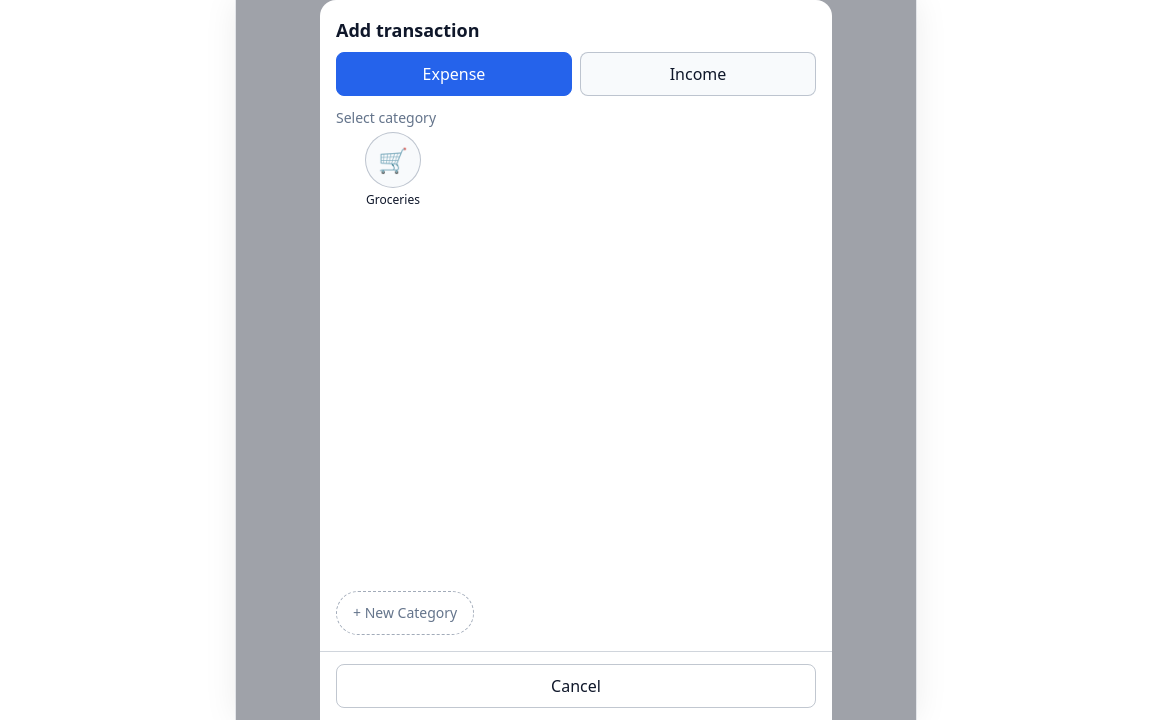
Test: TransactionSheet › shows validation errors and does not write when empty
The image size is (1152, 720).
Click the button "🛒 Groceries": point(393, 170) left=336, top=132, right=450, bottom=208
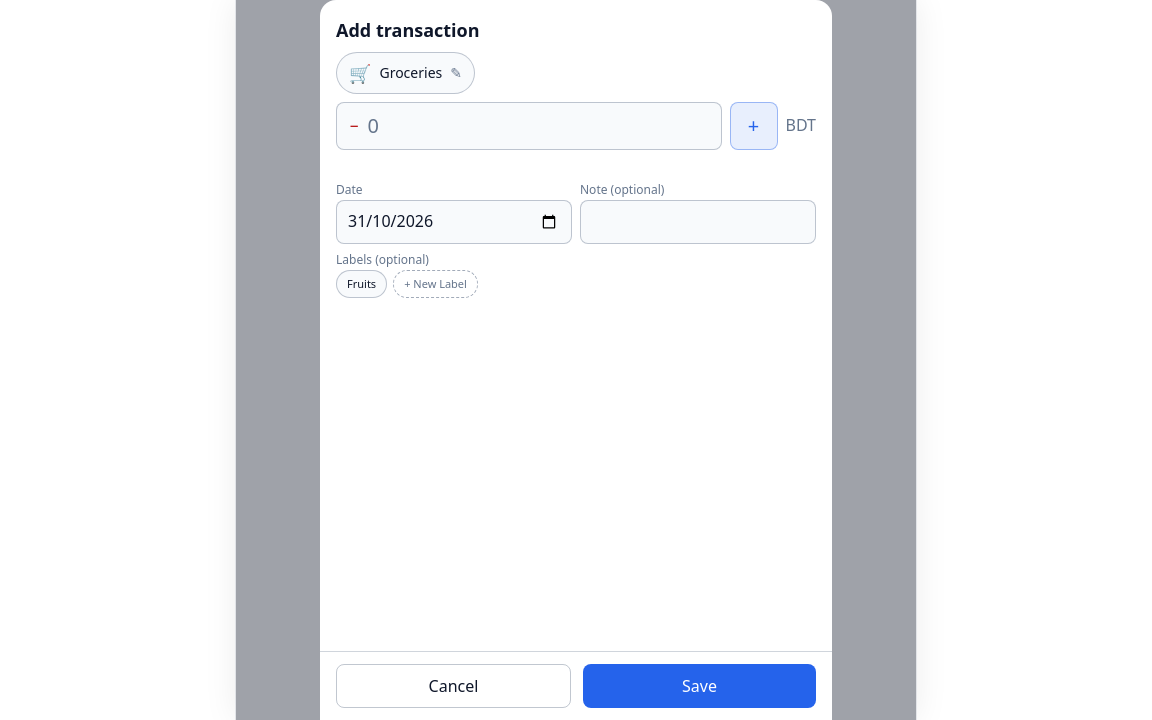
Click the button "Save": point(700, 686) left=583, top=664, right=816, bottom=708
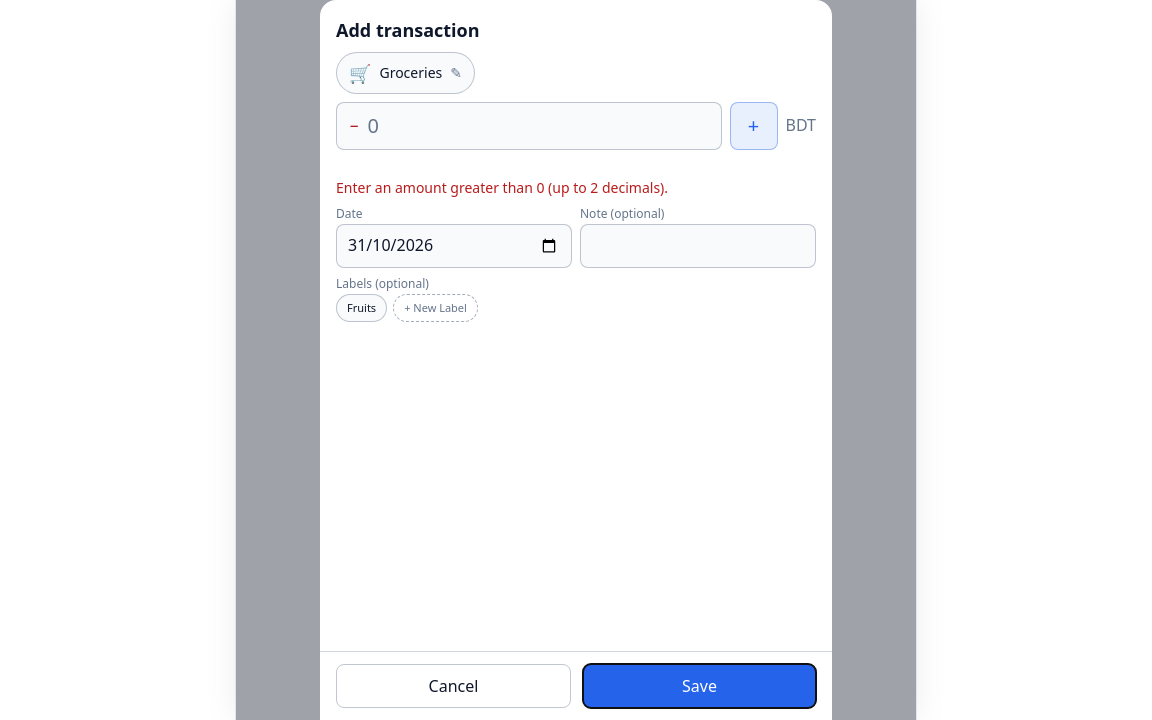
Expected: the text "Enter an amount greater than 0 (up to 2 decimals)." is shown, left=336, top=178, right=668, bottom=197
